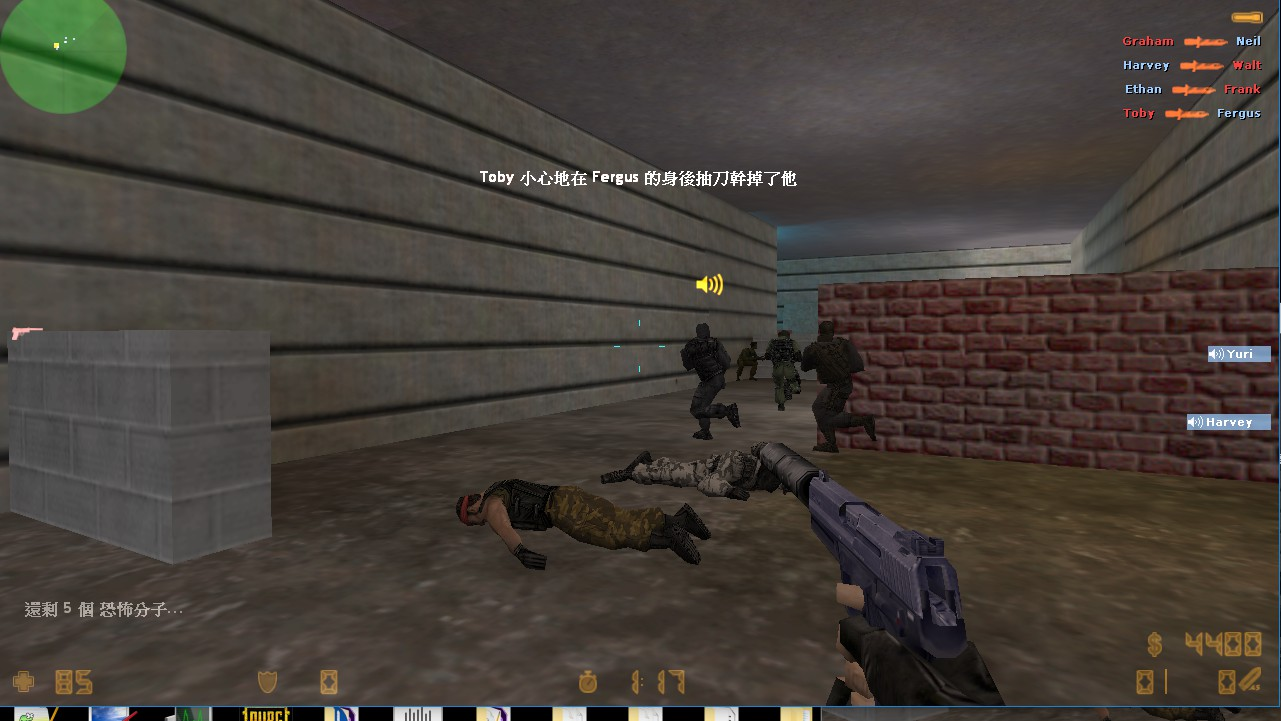person: (802, 318, 880, 456), (677, 318, 743, 441), (767, 330, 805, 415), (734, 340, 765, 380)
